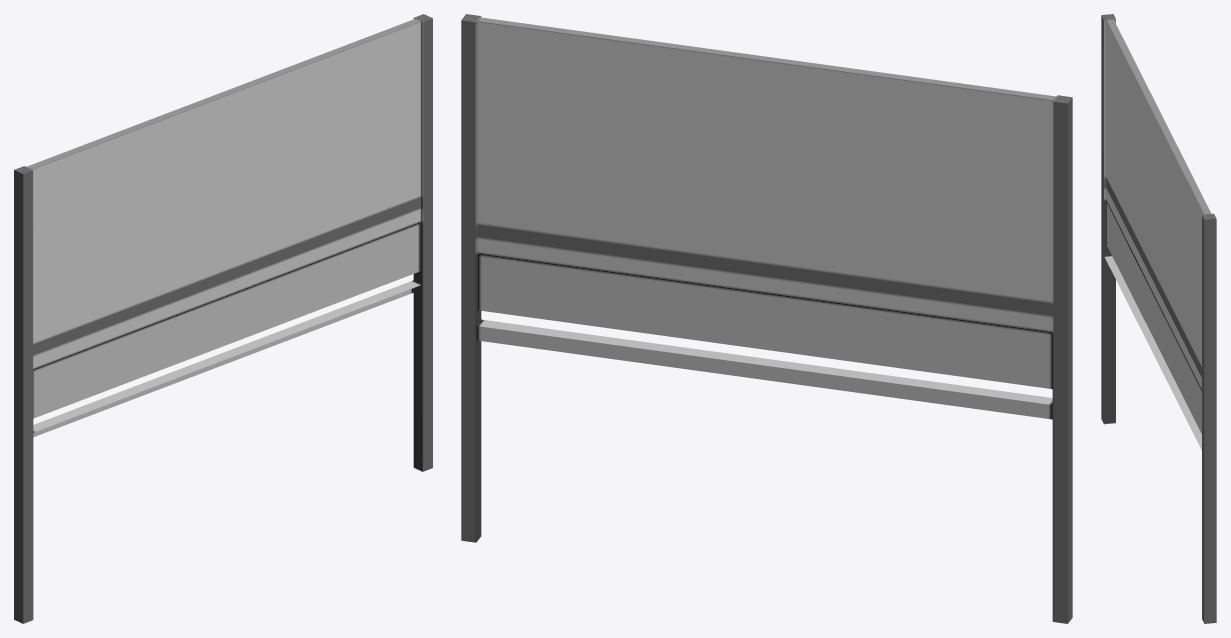
Rendered from board2.glb.
The picture shows the model from 3 angles, left to right: view 1: azimuth 30°, elevation 25°; view 2: azimuth 150°, elevation 25°; view 3: azimuth 270°, elevation 25°; orthographic projection. The views are drawn at different scales.
Visible parts, largest first — view 1: Node1; view 2: Node1; view 3: Node1.
Boxes of the visible parts, box(x1,y1,x2,y2) form: Node1: box(14, 14, 432, 623); Node1: box(461, 14, 1072, 623); Node1: box(1101, 14, 1216, 623).
Size of the model in its own units: 1.97 by 1.8 by 0.4647.
1 material, 1 textured.
